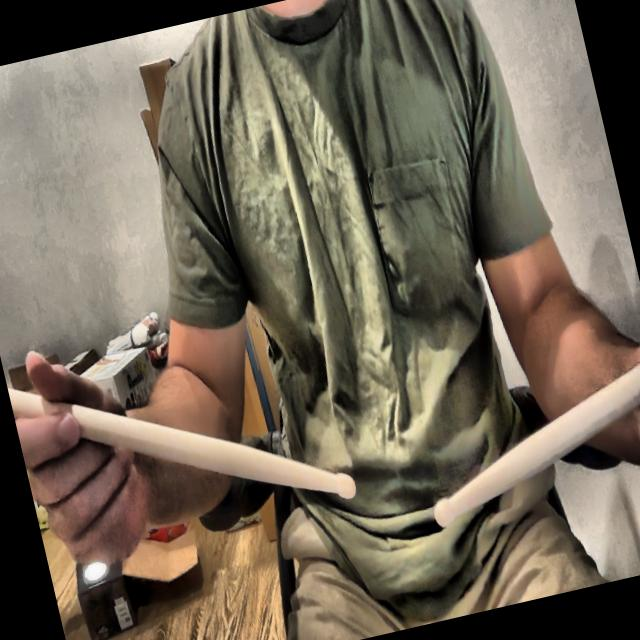Drumstick-Heads: (330, 458, 363, 508), (428, 498, 462, 534)
